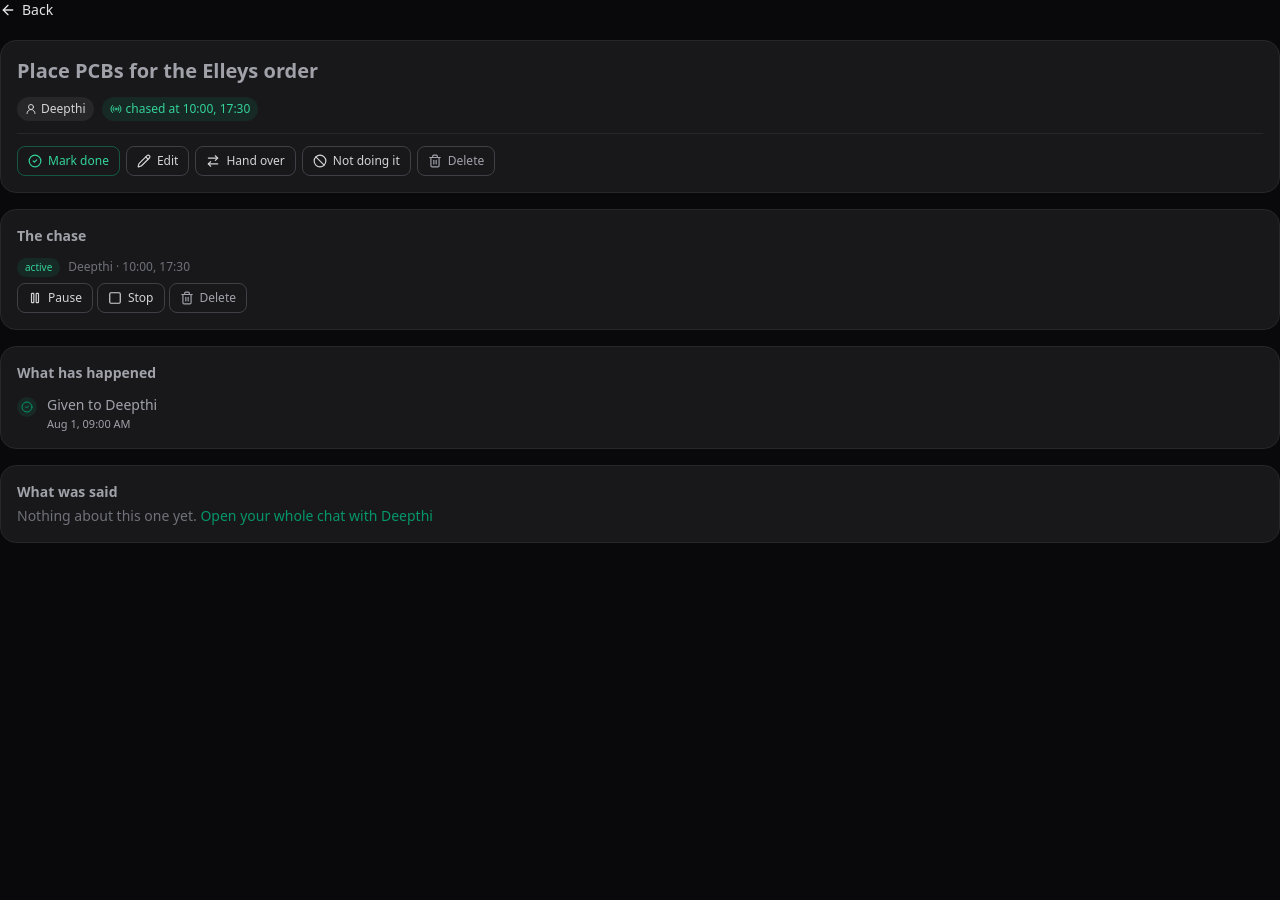
Test: acting on the job itself (BEA-1315) › deleting asks first, and says what is lost against the gentler option
Expected: the heading "Place PCBs for the Elleys order" is shown, [17,57,318,84]
What coordinates should you click on to do the following:
click the button with aria-label "Delete this job"
I would click on:
 (456, 160)
Its box is [417,146,495,176].
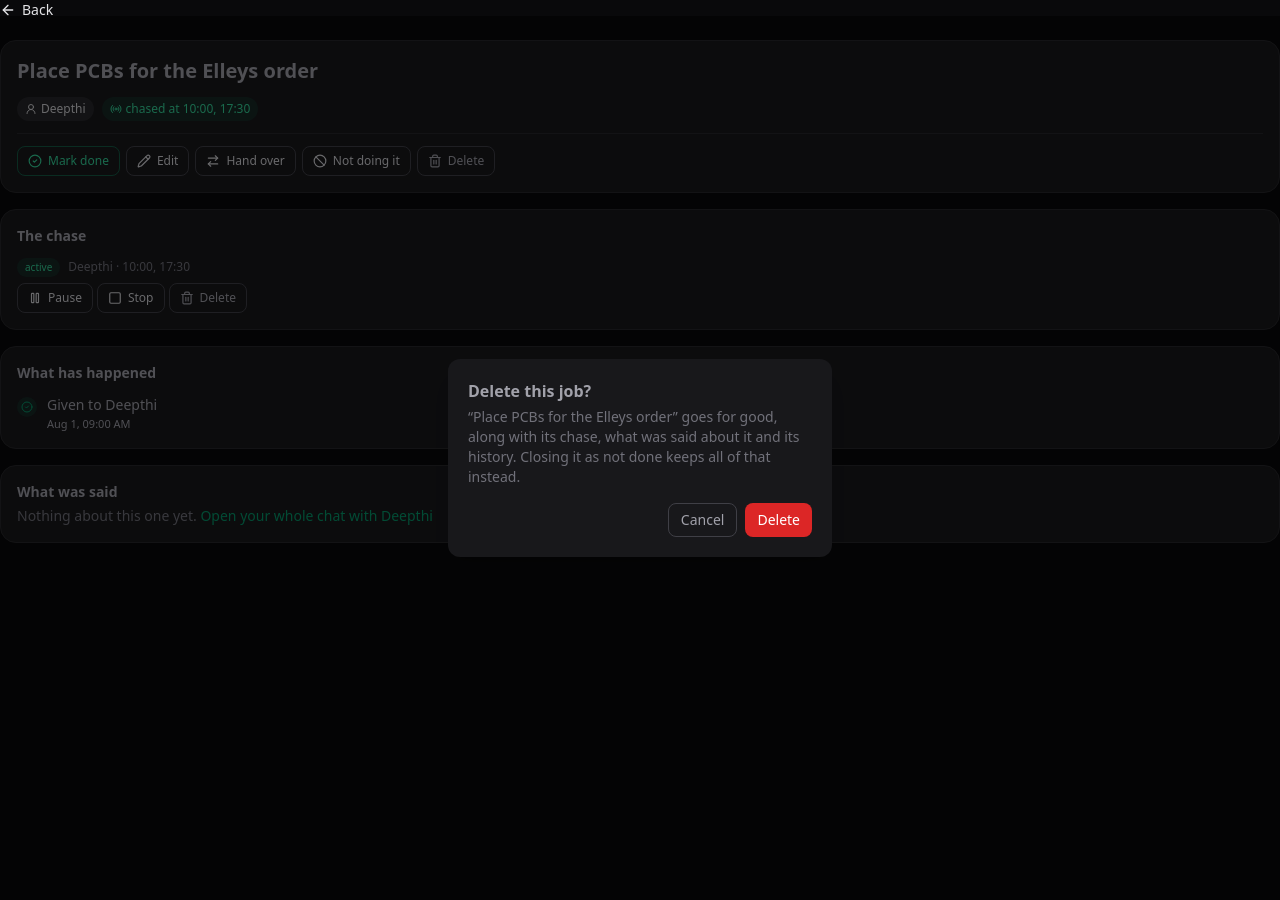
Now the heading "Delete this job?" is shown, box [468,380,591,402]
Now the text "Closing it as not done keeps all of that" is shown, box [468,407,800,486]
